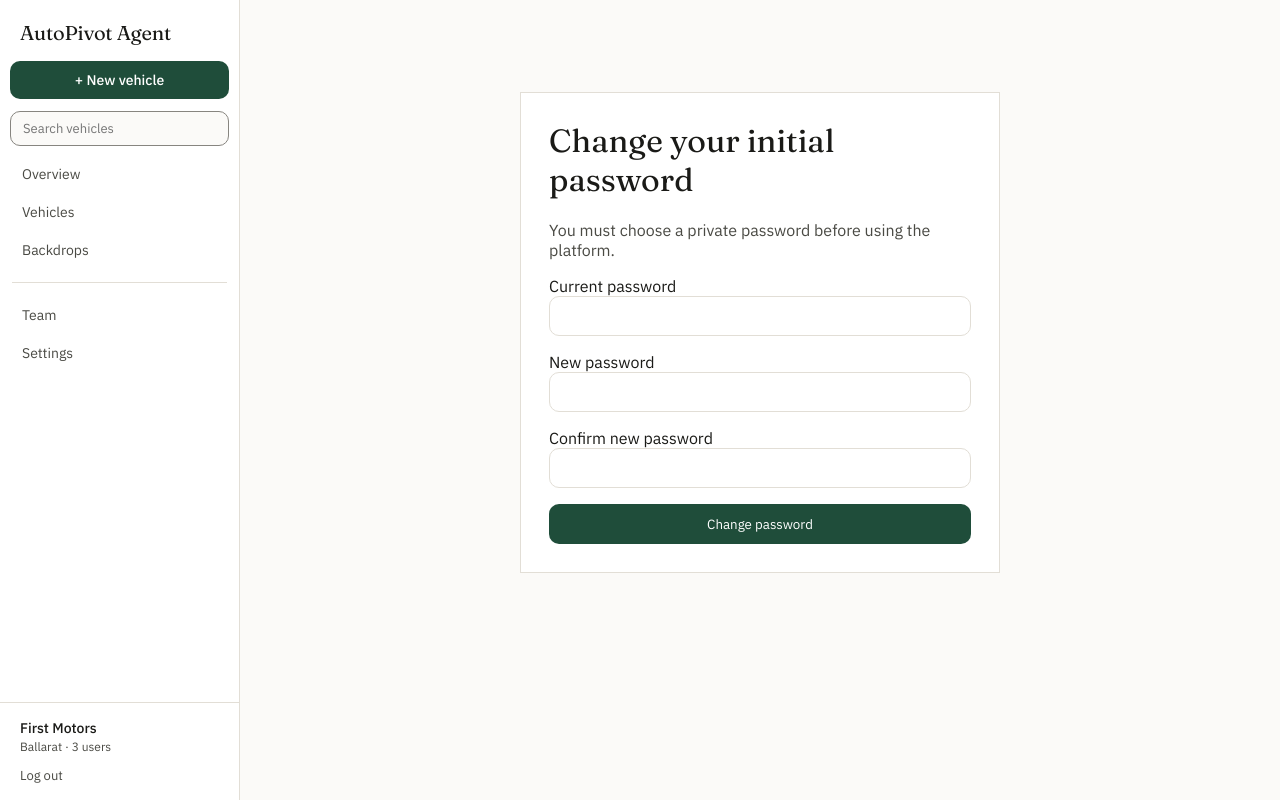
Scenario: Changing the password › carries on signed in, on the token the change handed back
Type "Initial-password-1" into the password field labelled "Current password" at (760, 316), box [549,296,971,336]
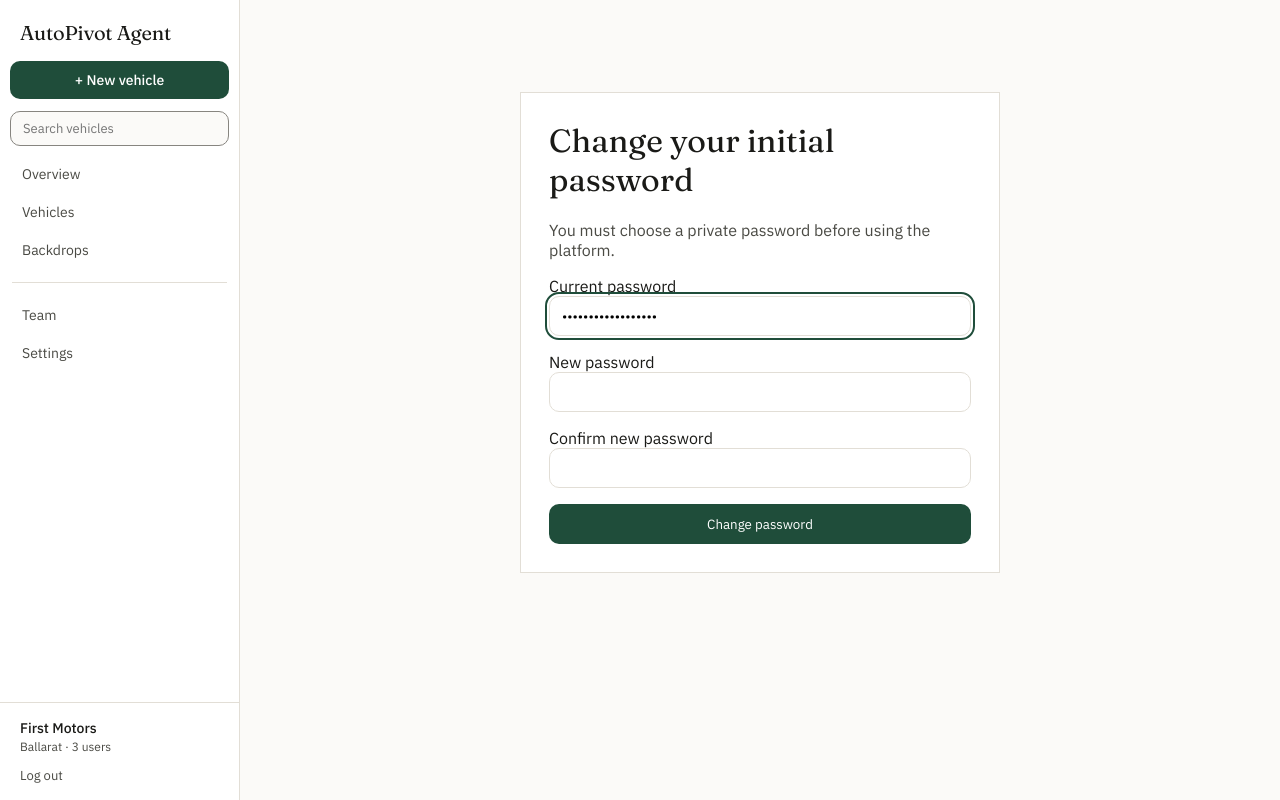
Type "A-new-private-password-123" into the password field labelled "New password" at (760, 392), box [549,372,971,412]
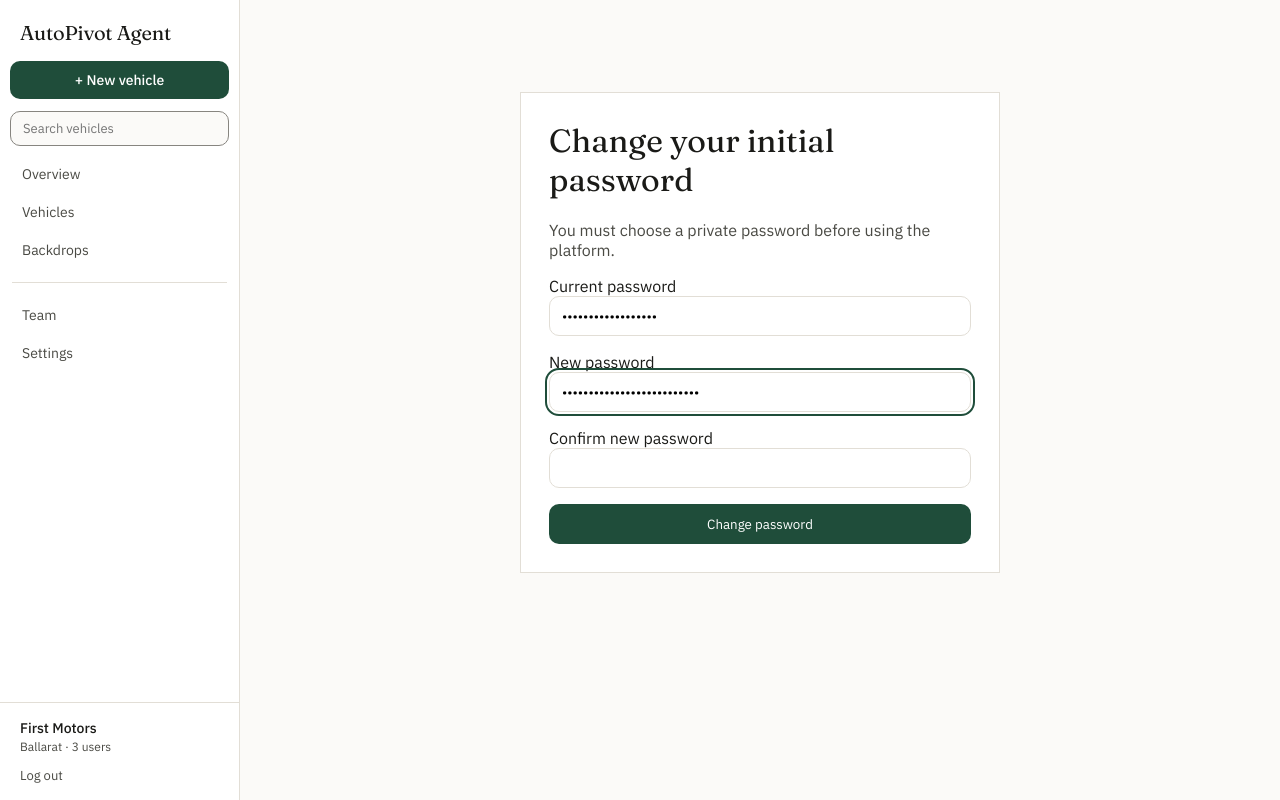
Type "A-new-private-password-123" into the password field labelled "Confirm new password" at (760, 468), box [549,448,971,488]
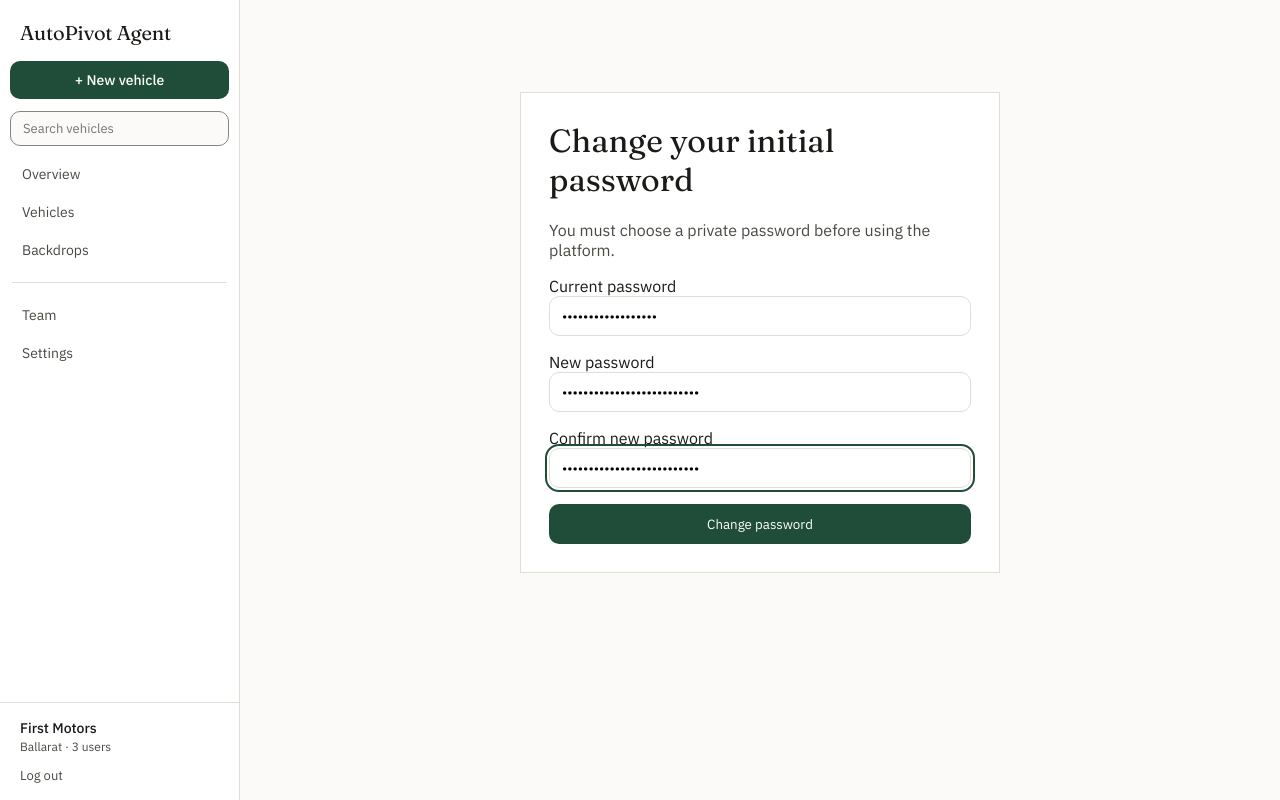
Click the button "Change password" at (760, 524), box [549,504,971,544]
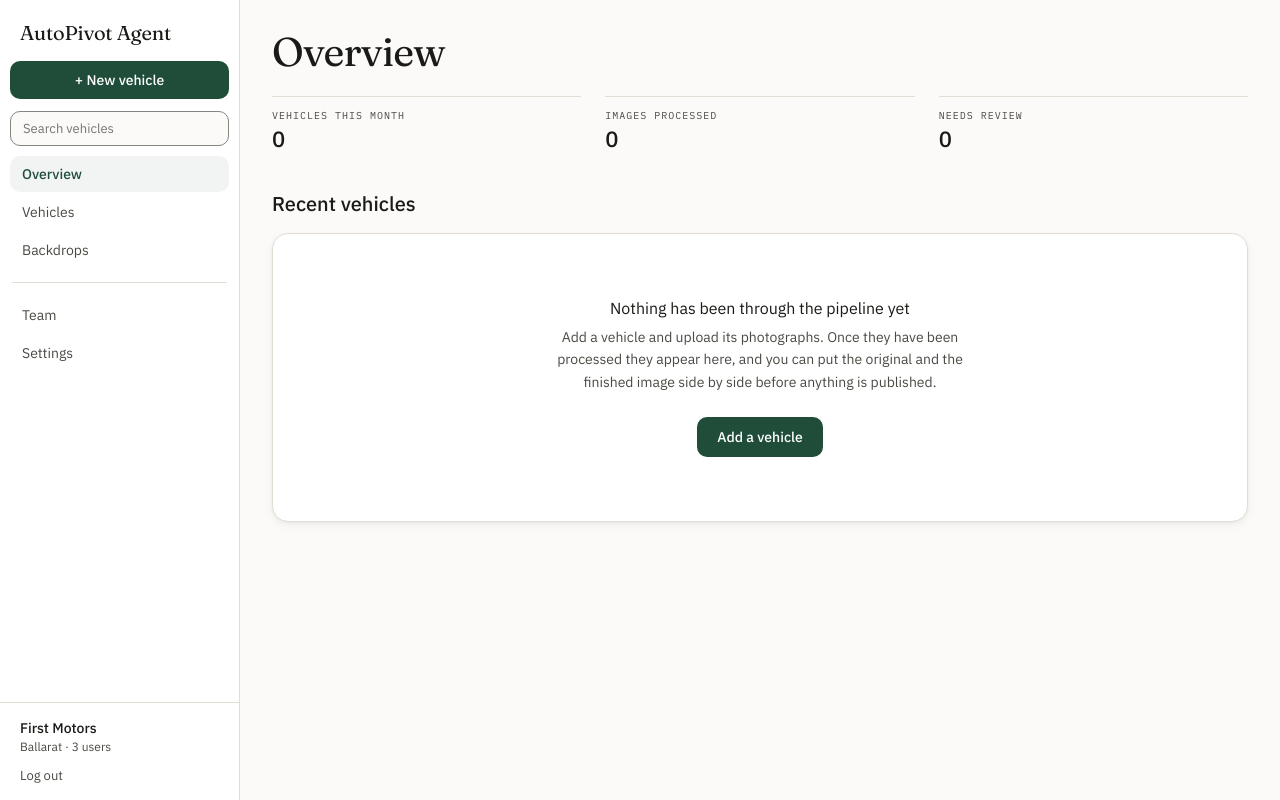
Check: the heading "Overview" is shown, box [272,27,445,76]
